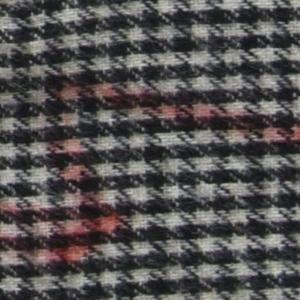Stain: (1, 71, 300, 270)
